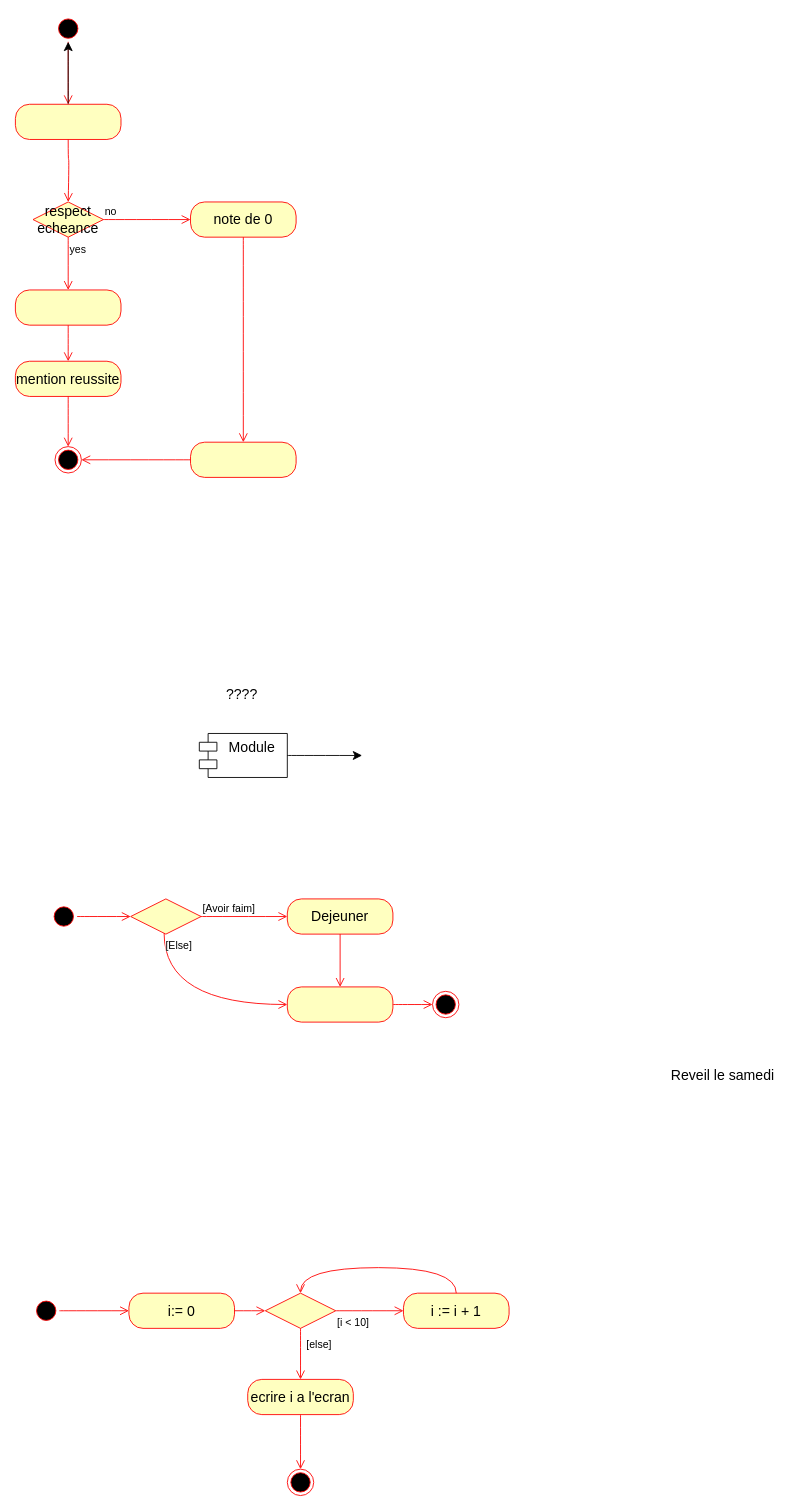
This 802x1511 diagram has some shape labels left out. The shapes that lost their labels are listed below. From the top down, each one's centre as x and y in pixels, then its label:
At (68,121): "reussite".
At (68,307): "note de 100".
At (243,459): "mention echec".
At (339,1004): "Dormir".
